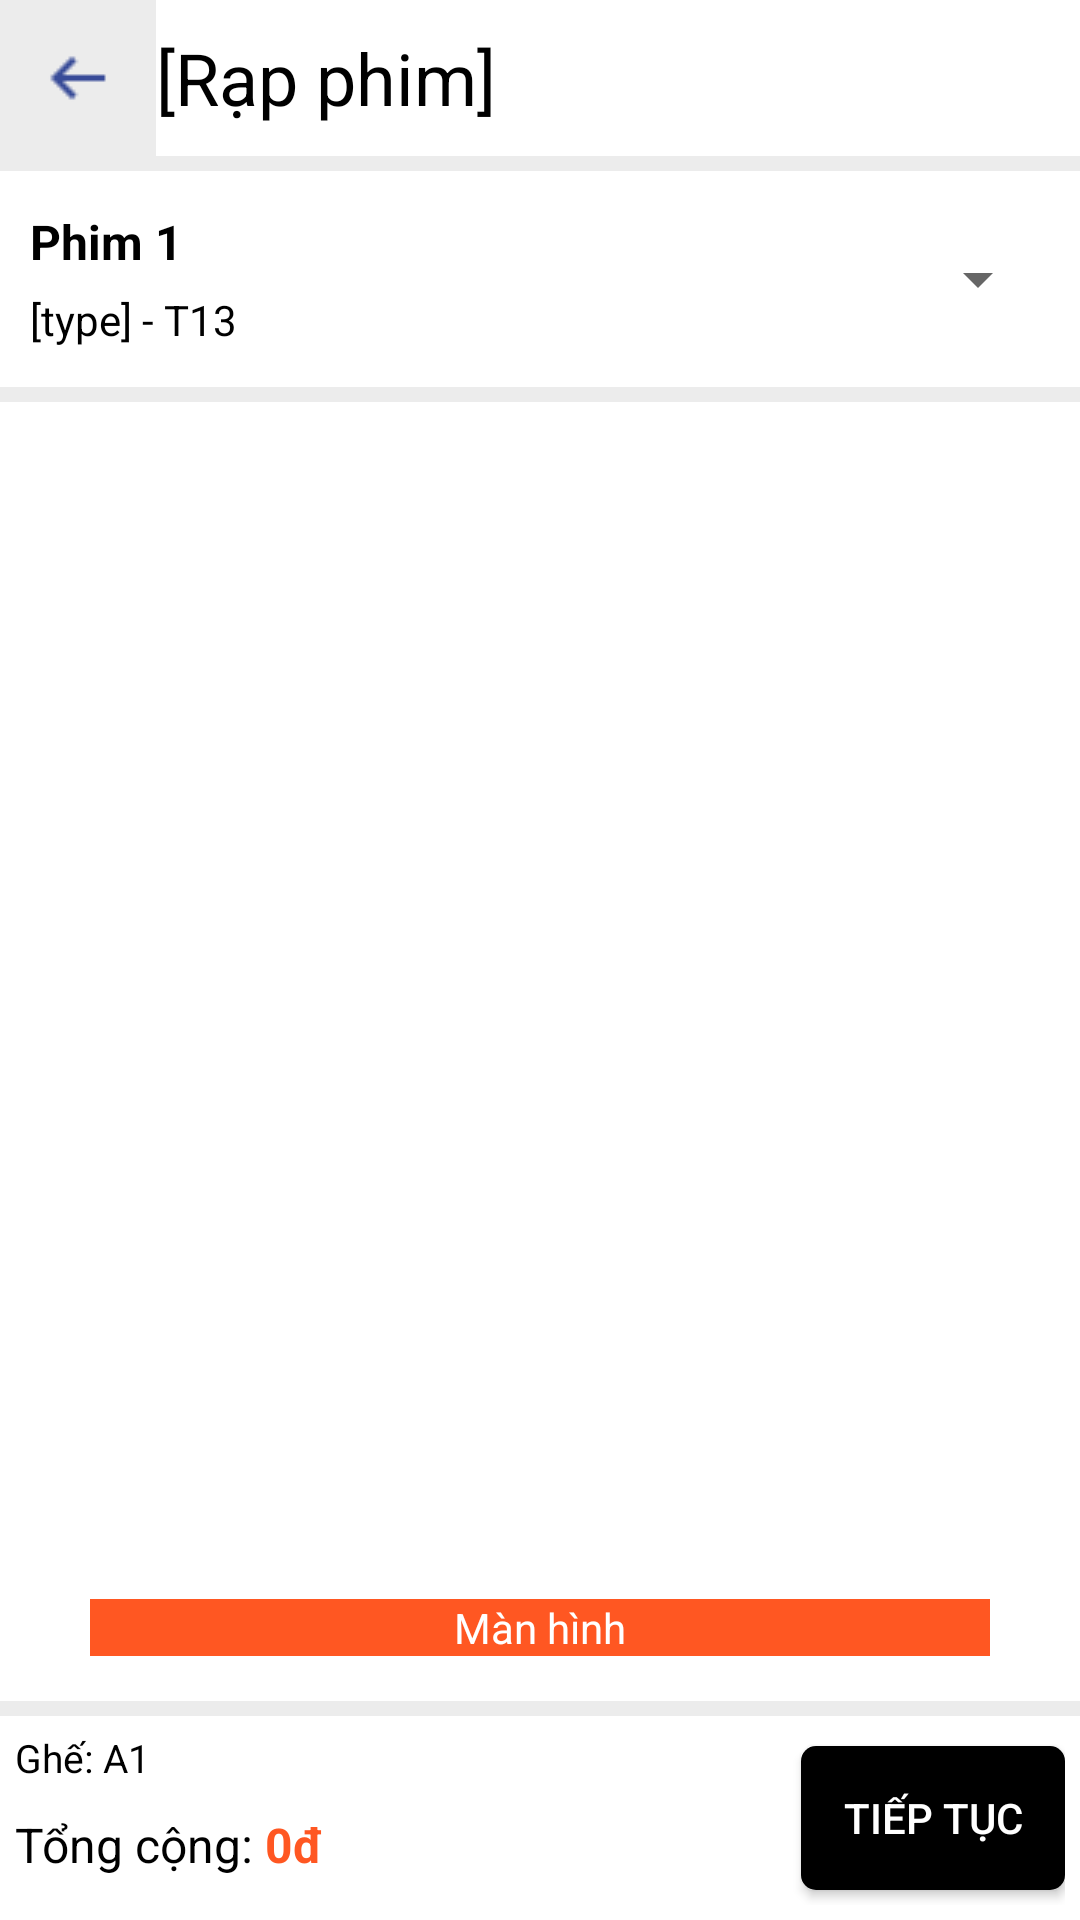

Named icons in this screenshot (1080x1920) and their centers, (x=x, y=y):
back: (x=78, y=78)
